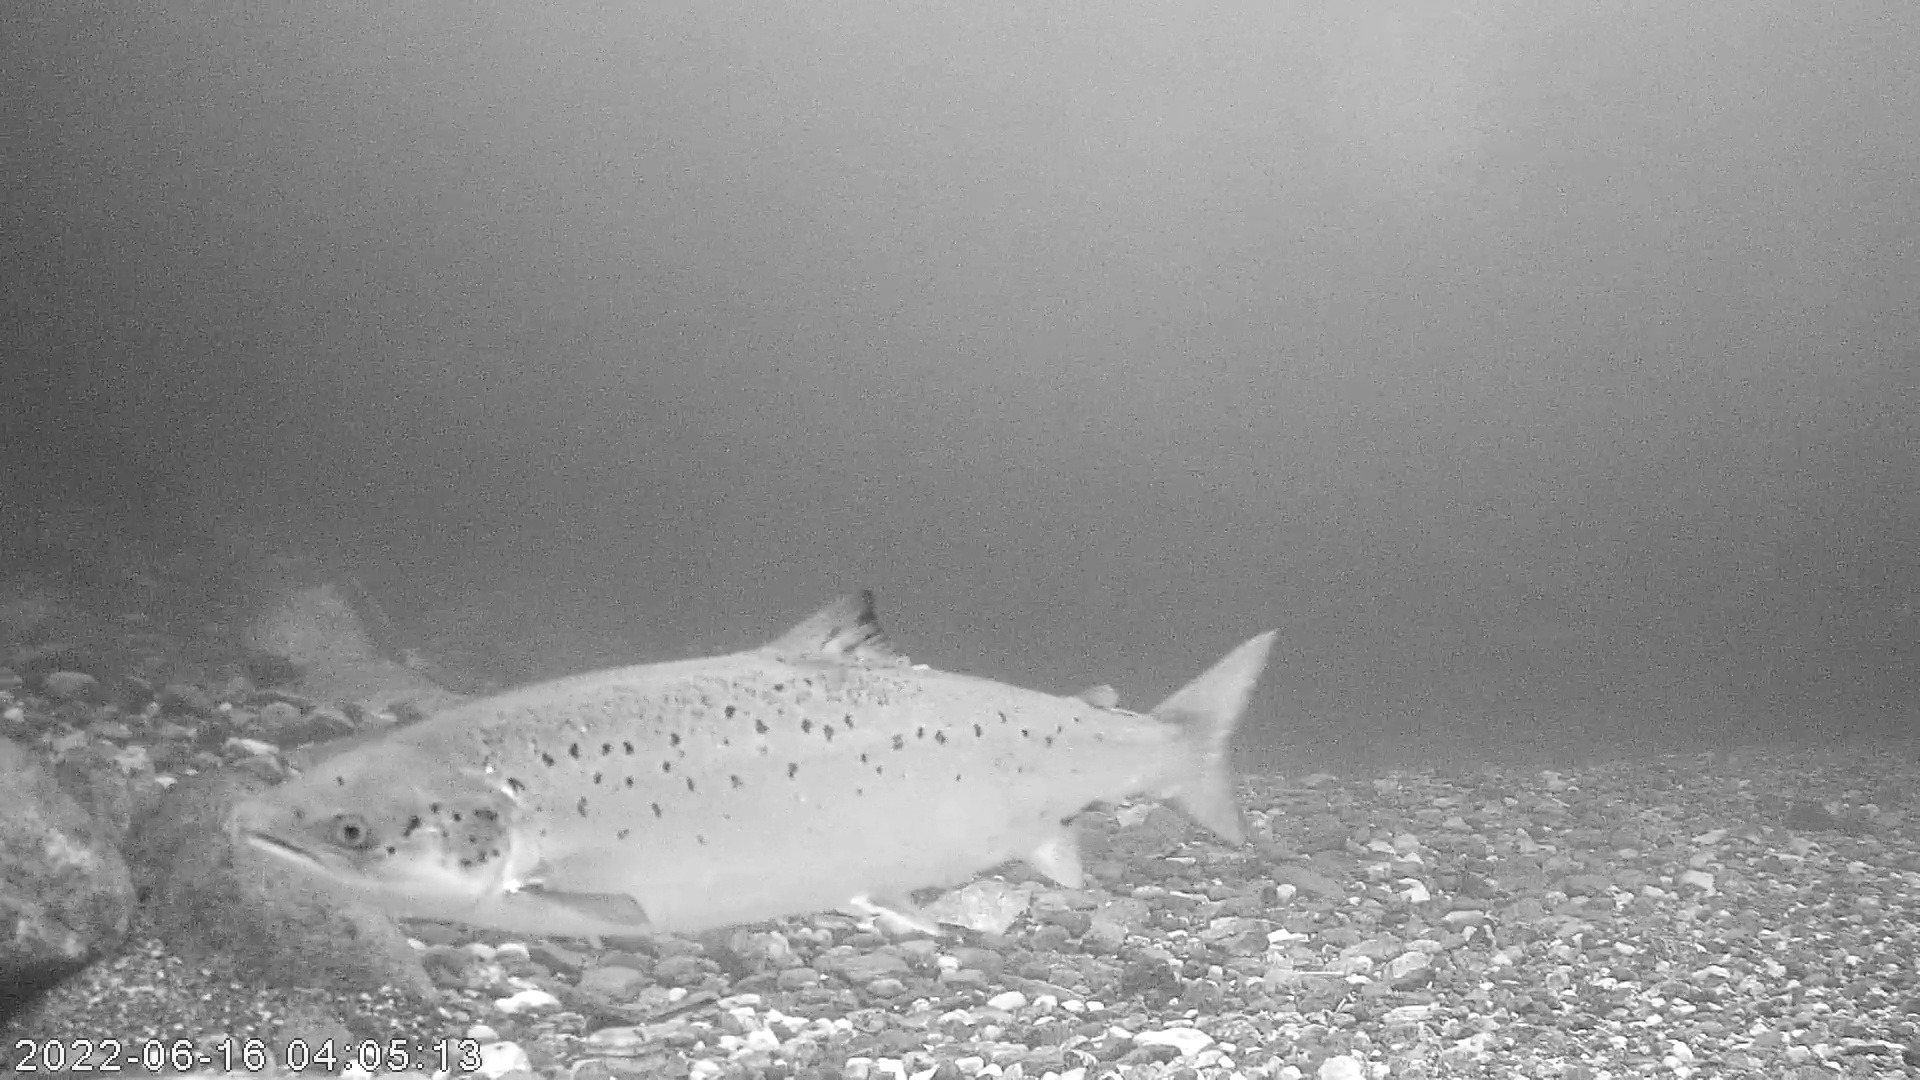salmon: (227, 582, 1287, 939)
